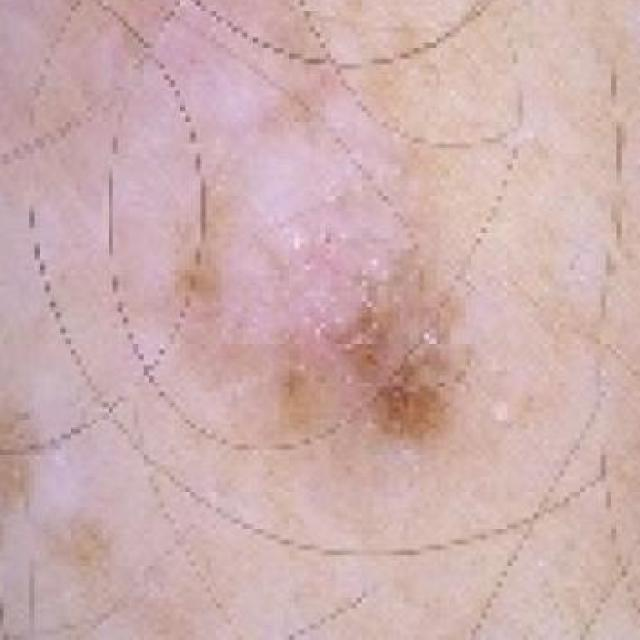BCC: (52, 0, 520, 475)
